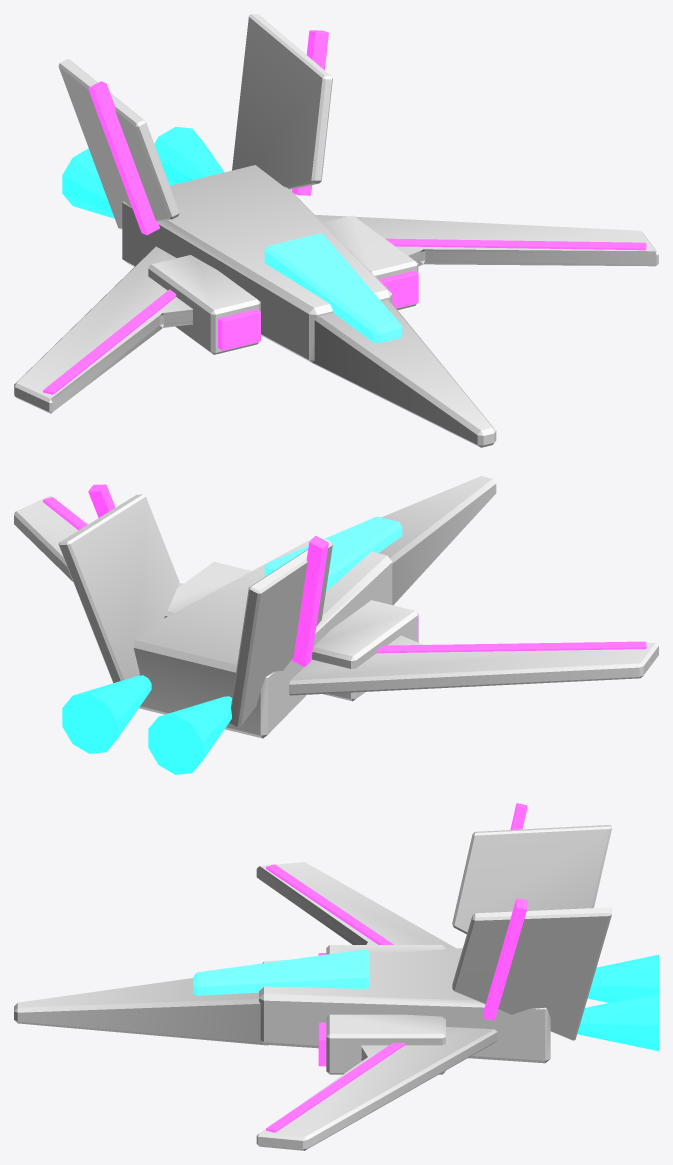
Rendered from e2_neon_blade.glb.
3 views of the same model, one above another, from view 1: azimuth 30°, elevation 25°; view 2: azimuth 150°, elevation 25°; view 3: azimuth 270°, elevation 25° (orthographic). The views are drawn at different scales.
Visible parts, largest first — view 1: Body, TailFin_R, Nose, FwdWing_R, FwdWing_L, TailFin_L, Canopy, Intake_L, TailGlow_L, Intake_R, Jet_R, NeonEdge_R (+5 smaller); view 2: Body, TailFin_R, FwdWing_L, TailFin_L, Nose, Intake_L, Jet_R, Jet_L, Canopy, TailGlow_L, FwdWing_R, NeonEdge_L (+3 smaller); view 3: Body, TailFin_R, TailFin_L, Nose, FwdWing_R, FwdWing_L, Canopy, Intake_R, Jet_R, Jet_L, TailGlow_R, NeonEdge_R (+2 smaller).
Part boxes in pixels (x1=…): Body: x1=122, y1=165, x2=392, y2=363; TailFin_R: x1=232, y1=14, x2=332, y2=189; Nose: x1=313, y1=299, x2=496, y2=447; FwdWing_R: x1=315, y1=215, x2=658, y2=266; FwdWing_L: x1=14, y1=246, x2=192, y2=413; TailFin_L: x1=58, y1=59, x2=179, y2=229; Canopy: x1=264, y1=233, x2=402, y2=343; Intake_L: x1=148, y1=255, x2=260, y2=354; TailGlow_L: x1=88, y1=81, x2=159, y2=235; Intake_R: x1=323, y1=215, x2=418, y2=309; Jet_R: x1=154, y1=126, x2=224, y2=185; NeonEdge_R: x1=385, y1=238, x2=646, y2=250; Body: x1=133, y1=538, x2=392, y2=738; TailFin_R: x1=58, y1=494, x2=179, y2=682; FwdWing_L: x1=289, y1=635, x2=658, y2=695; TailFin_L: x1=229, y1=539, x2=332, y2=727; Nose: x1=378, y1=476, x2=496, y2=605; Intake_L: x1=312, y1=600, x2=418, y2=701; Jet_R: x1=62, y1=675, x2=151, y2=753; Jet_L: x1=148, y1=696, x2=232, y2=774; Canopy: x1=264, y1=516, x2=402, y2=591; TailGlow_L: x1=291, y1=535, x2=328, y2=667; FwdWing_R: x1=14, y1=495, x2=183, y2=588; NeonEdge_L: x1=376, y1=641, x2=646, y2=653; Body: x1=259, y1=948, x2=550, y2=1063; TailFin_R: x1=452, y1=907, x2=611, y2=1040; TailFin_L: x1=452, y1=825, x2=611, y2=934; Nose: x1=14, y1=978, x2=268, y2=1045; FwdWing_R: x1=256, y1=1027, x2=497, y2=1150; FwdWing_L: x1=256, y1=862, x2=456, y2=949; Canopy: x1=193, y1=949, x2=369, y2=995; Intake_R: x1=326, y1=1014, x2=445, y2=1074; Jet_R: x1=577, y1=992, x2=658, y2=1051; Jet_L: x1=587, y1=954, x2=658, y2=1002; TailGlow_R: x1=484, y1=898, x2=527, y2=1020; NeonEdge_R: x1=266, y1=1043, x2=404, y2=1132.
Size of the model in its own units: 2.6 by 0.7929 by 2.55.
